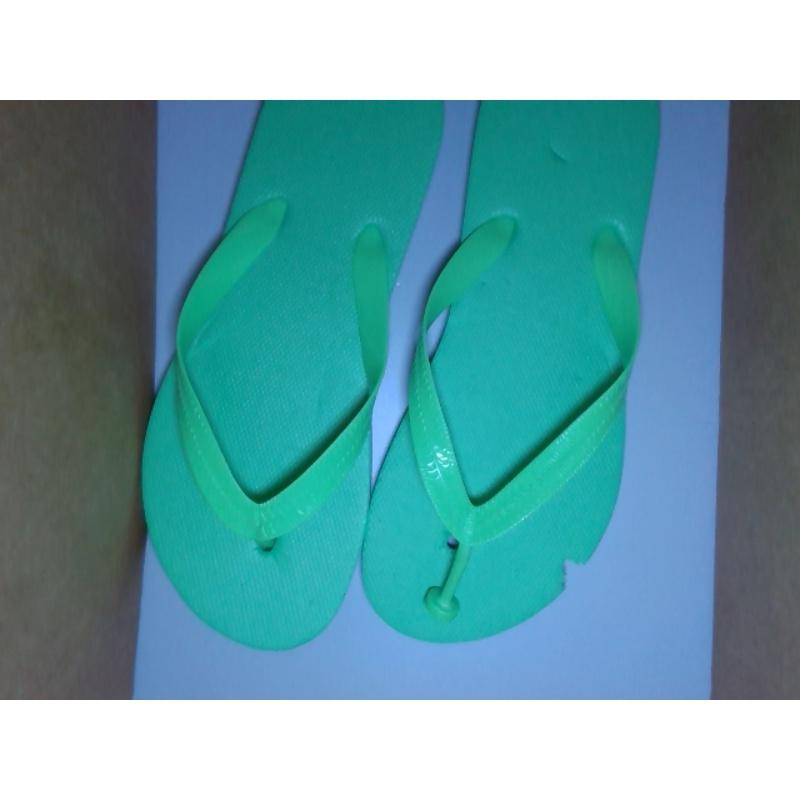chipped: (546, 537, 607, 608)
detached: (409, 566, 474, 630)
